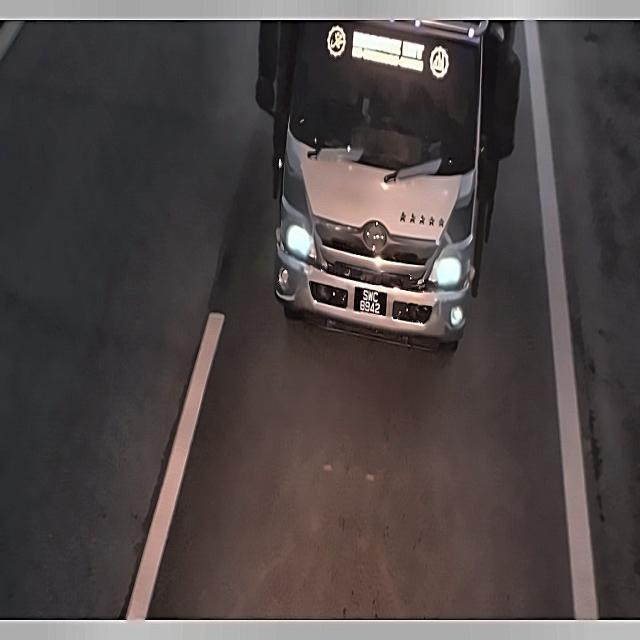car: (353, 281, 389, 326)
